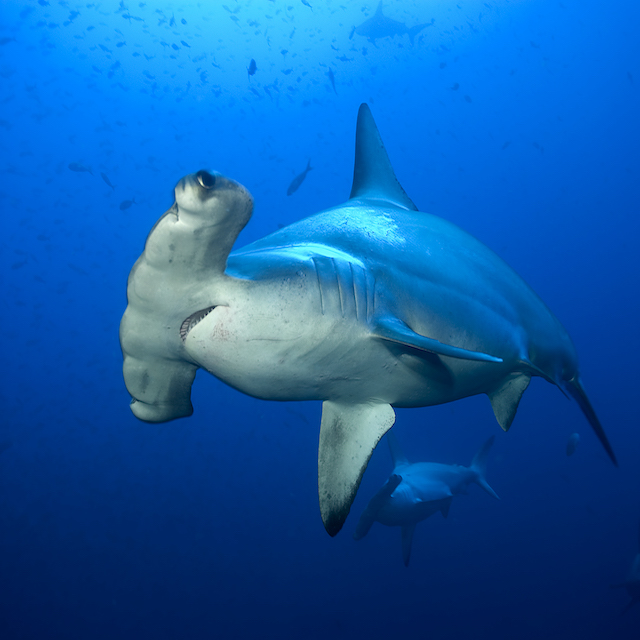hammerhead: (105, 144, 525, 420), (349, 428, 497, 543)
